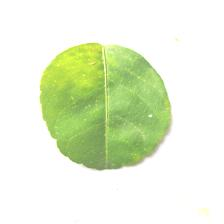greening: (61, 64, 150, 118)
